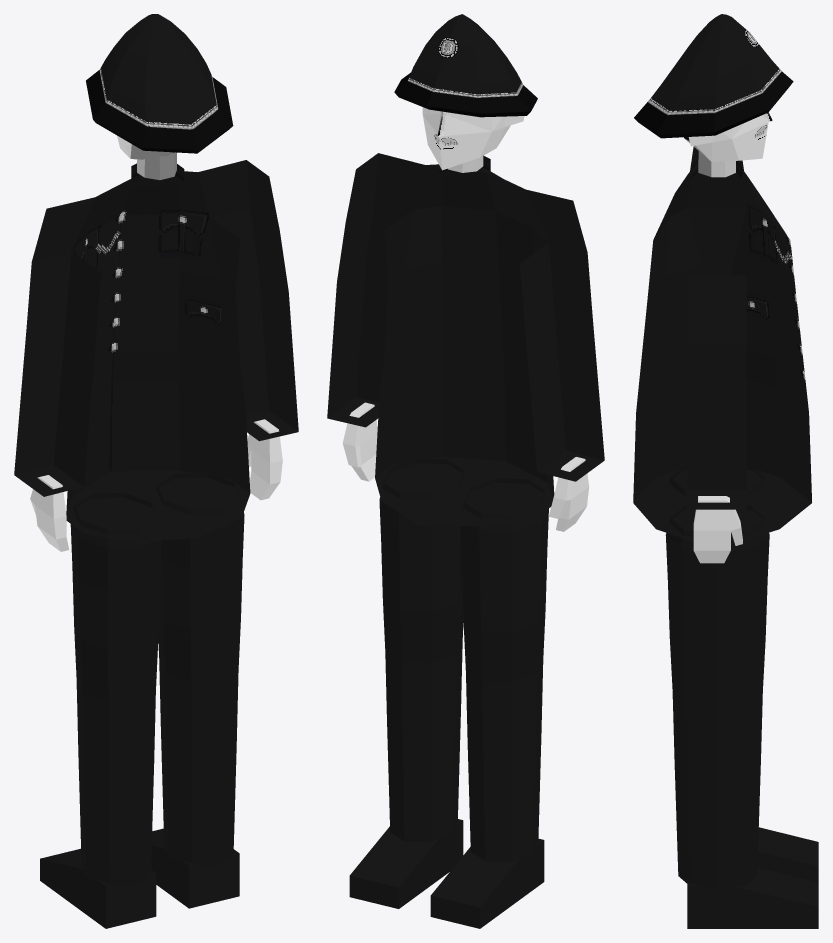
The model's file is modeloleonardd.gltf.
The picture shows the model from 3 angles, left to right: view 1: azimuth 30°, elevation 25°; view 2: azimuth 150°, elevation 25°; view 3: azimuth 270°, elevation 25°; orthographic projection. The views are drawn at different scales.
Parts seen in each view (by area): view 1: Blusa, Perna Dir, Chapeu, Pé Esq, Pé Dir, Mão Dir, Mão Esquerda, Pescoço; view 2: Blusa, Perna Dir, Chapeu, Pé Esq, Pé Dir, Cabeça, Mão Dir, Mão Esquerda; view 3: Blusa, Perna Dir, Chapeu, Pé Dir, Mão Dir, Pé Esq, Cabeça, Pescoço.
Boxes of the visible parts, x1,y1,x2,y2 form: Blusa: [14, 160, 298, 542]; Perna Dir: [70, 472, 244, 885]; Chapeu: [86, 14, 233, 153]; Pé Esq: [40, 848, 156, 928]; Pé Dir: [151, 828, 239, 908]; Mão Dir: [247, 419, 282, 500]; Mão Esquerda: [30, 475, 69, 551]; Pescoço: [137, 152, 176, 180]; Blusa: [327, 153, 604, 526]; Perna Dir: [379, 458, 548, 861]; Chapeu: [394, 14, 537, 117]; Pé Esq: [430, 838, 544, 928]; Pé Dir: [349, 819, 463, 908]; Cabeça: [422, 107, 524, 170]; Mão Dir: [342, 402, 377, 481]; Mão Esquerda: [549, 457, 589, 531]; Blusa: [633, 147, 811, 543]; Perna Dir: [665, 465, 769, 890]; Chapeu: [634, 14, 793, 138]; Pé Dir: [687, 867, 818, 928]; Mão Dir: [693, 496, 742, 563]; Pé Esq: [757, 827, 818, 882]; Cabeça: [684, 112, 772, 161]; Pescoço: [698, 151, 735, 177].
Bounding box in the file's own units: 1.25 × 4.17 × 0.7943.
Materials: 2 (1 with a texture image).
